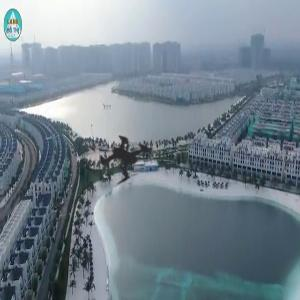drone: (53, 86, 204, 237)
